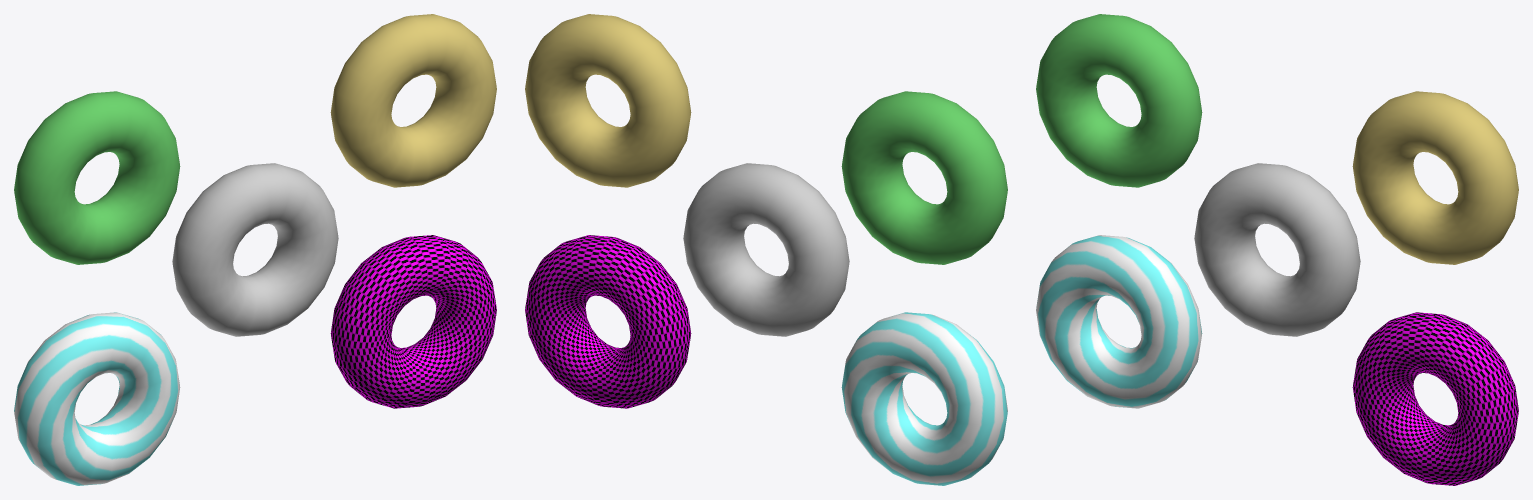
3 views of the same model, side by side, from view 1: azimuth 30°, elevation 25°; view 2: azimuth 150°, elevation 25°; view 3: azimuth 330°, elevation 25° (orthographic).
Parts seen in each view (by area): view 1: pTorus6; view 2: pTorus6; view 3: pTorus6.
Part boxes in pixels (left/top/right/bottom): pTorus6: left=14, top=14, right=496, bottom=485; pTorus6: left=525, top=14, right=1007, bottom=485; pTorus6: left=1036, top=14, right=1518, bottom=485.
Bounding box in the file's own units: 9 × 7 × 1.
